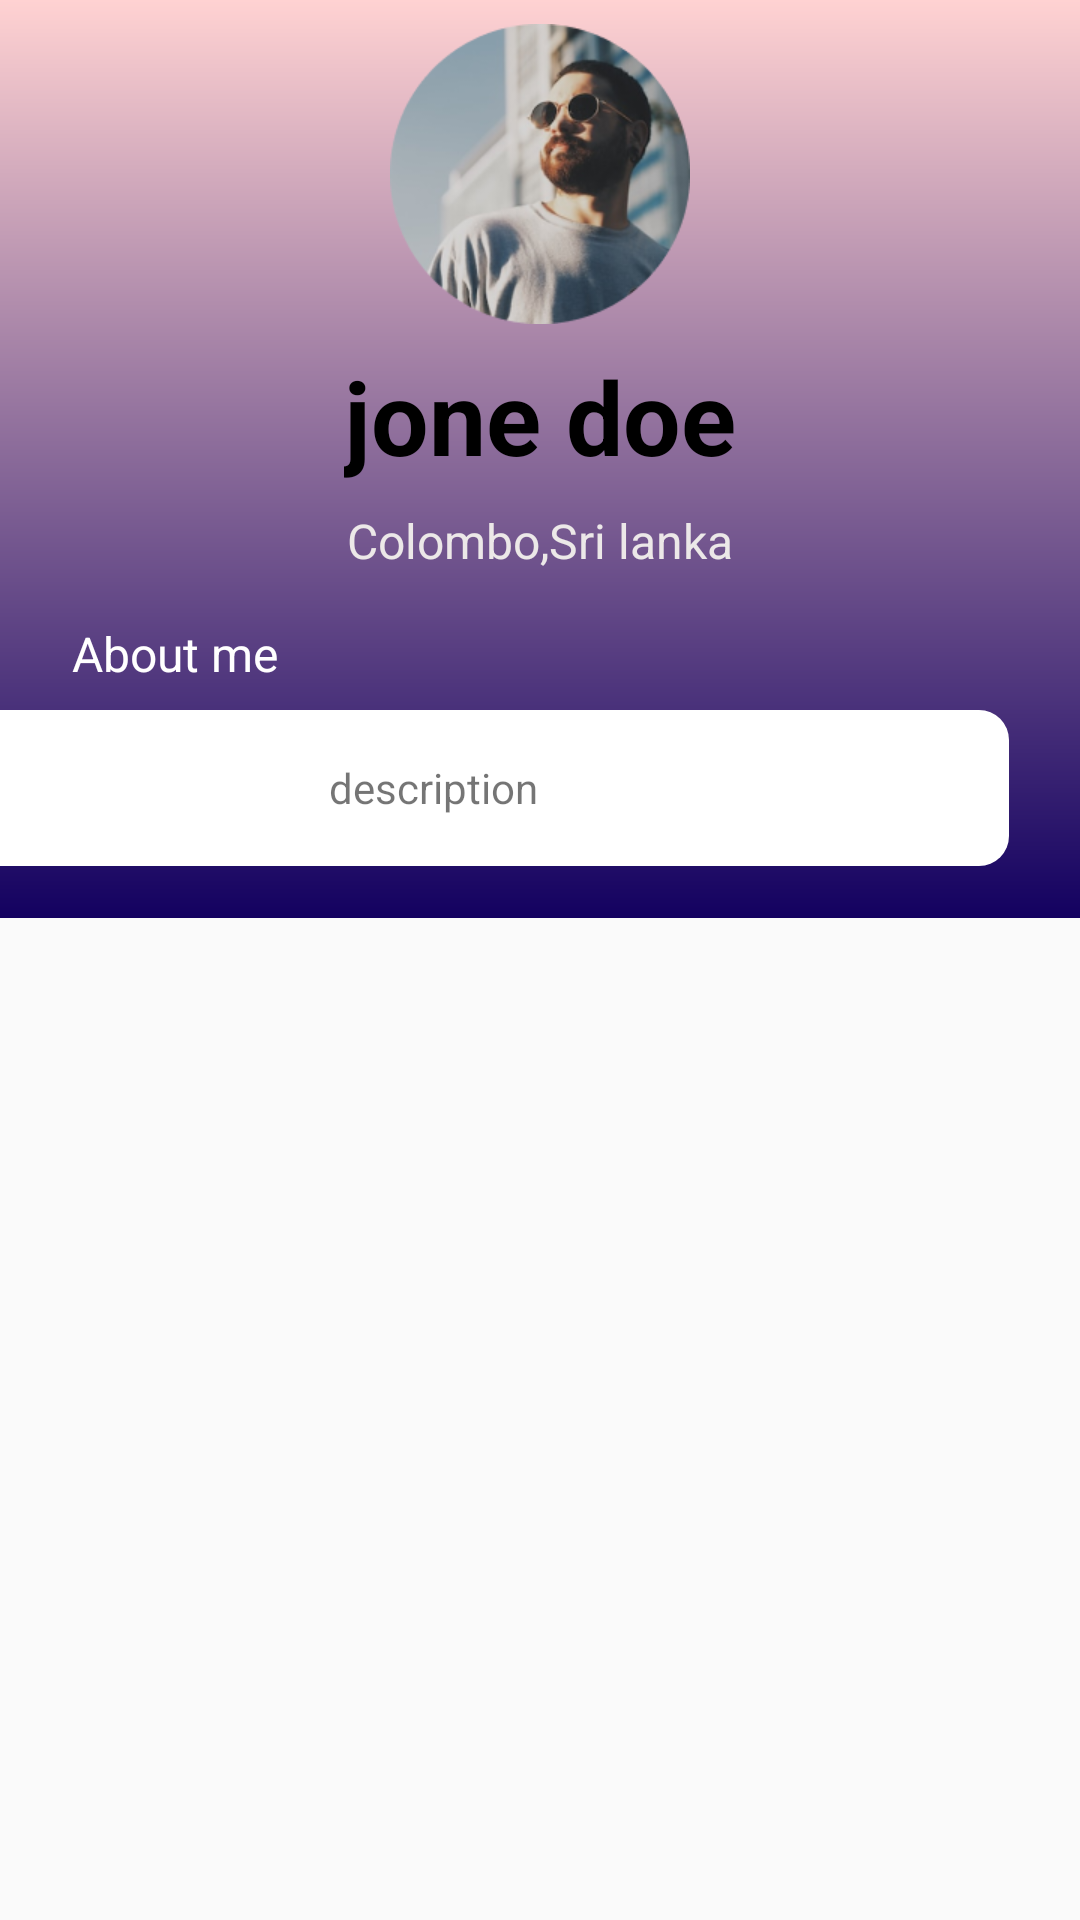

Icons on this 1080*1920 Android screen, each with the point to tap as [x,y]:
profile: [540,174]
